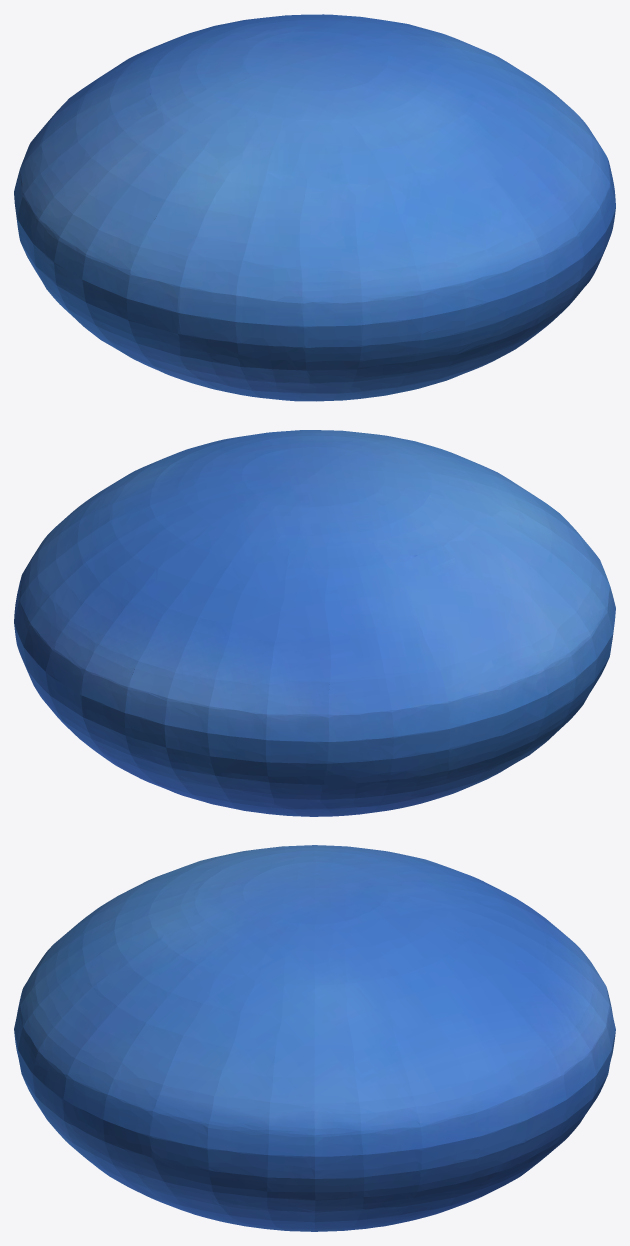
Rendered from bubble.glb.
The picture shows the model from 3 angles, top to bottom: view 1: azimuth 30°, elevation 25°; view 2: azimuth 150°, elevation 25°; view 3: azimuth 270°, elevation 25°; orthographic projection.
Parts seen in each view (by area): view 1: world; view 2: world; view 3: world.
Part boxes in pixels (x1=…): world: x1=14, y1=14, x2=615, y2=401; world: x1=14, y1=430, x2=615, y2=816; world: x1=14, y1=845, x2=615, y2=1231.
Bounding box in the file's own units: 1 × 0.5492 × 0.9999.
1 material, 1 textured.
